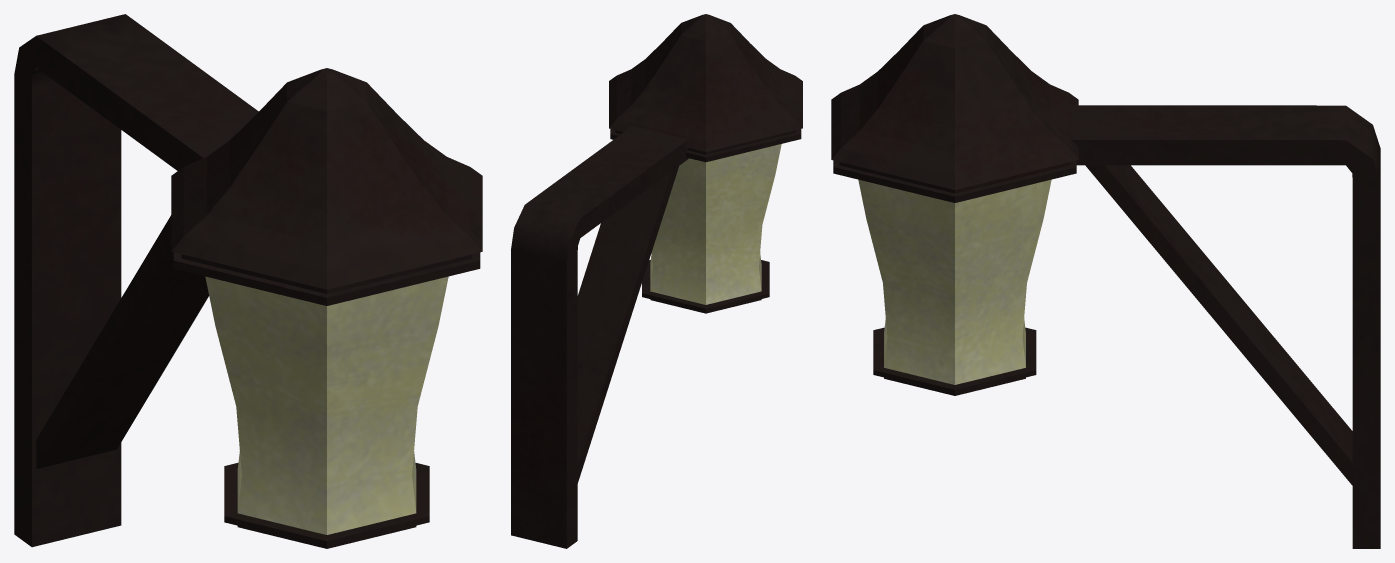
The model's file is waal lamp.fbx.
3 views of the same model, side by side, from view 1: azimuth 30°, elevation 25°; view 2: azimuth 150°, elevation 25°; view 3: azimuth 270°, elevation 25° (orthographic). The views are drawn at different scales.
Visible parts, largest first — view 1: pCylinder4; view 2: pCylinder4; view 3: pCylinder4.
Boxes of the visible parts, x1,y1,x2,y2 form: pCylinder4: [14, 14, 482, 548]; pCylinder4: [511, 14, 802, 548]; pCylinder4: [831, 14, 1380, 548].
Size of the model in its own units: 3.48 by 6.94 by 6.7.
